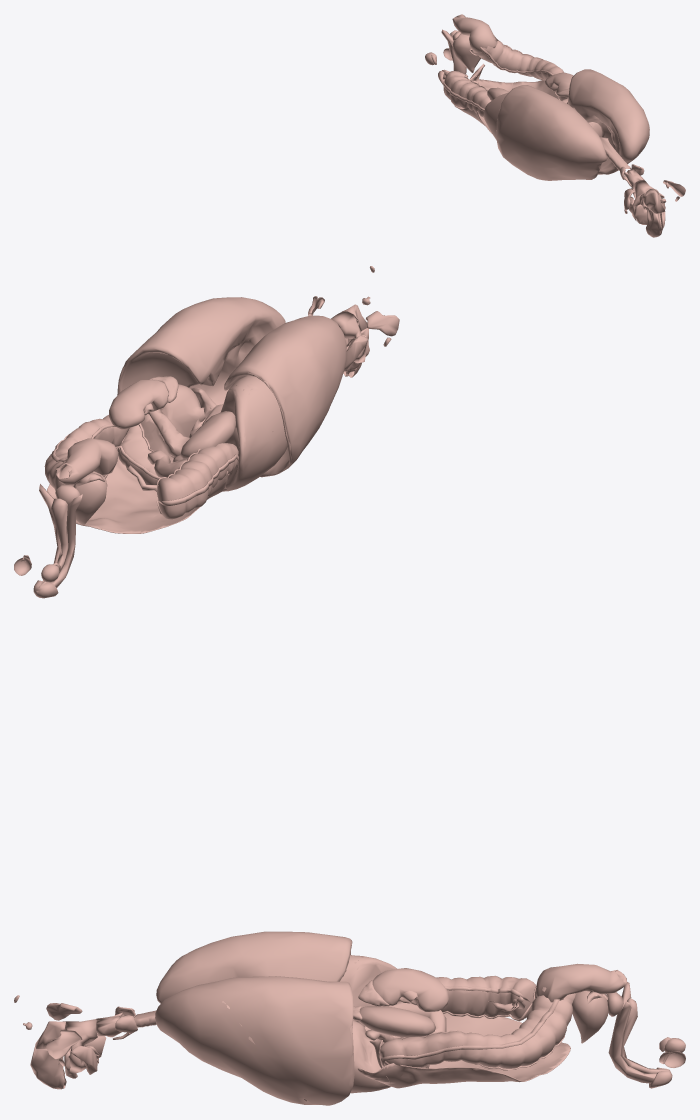
The model's file is overview__organs.e2270969b4.glb.
3 views of the same model, one above another, from view 1: azimuth 30°, elevation 25°; view 2: azimuth 150°, elevation 25°; view 3: azimuth 270°, elevation 25° (orthographic). The views are drawn at different scales.
Parts seen in each view (by area): view 1: Pleura, Descending colon, Ascending colon, Sigmoid colon, Greater omentum, Liver, Urinary bladder, Mucosa of nasal cavity, Kidney.l, Trachea, Oropharynx, Nasopharynx; view 2: Pleura, Liver, Greater omentum, Ascending colon, Kidney.l, Sigmoid colon, Descending colon, Kidney.r, Stomach, Transverse colon, Corpus cavernosum of penis, Urinary bladder (+4 smaller); view 3: Pleura, Descending colon, Greater omentum, Ascending colon, Sigmoid colon, Kidney.r, Kidney.l, Stomach, Urinary bladder, Corpus cavernosum of penis, Liver, Mucosa of nasal cavity (+5 smaller).
Part boxes in pixels (box(x1,y1,x2,y2)): Pleura: box(496, 69, 649, 180); Descending colon: box(470, 37, 566, 100); Ascending colon: box(443, 71, 491, 117); Sigmoid colon: box(452, 14, 498, 53); Greater omentum: box(454, 79, 558, 133); Liver: box(483, 92, 602, 139); Urinary bladder: box(452, 33, 480, 72); Mucosa of nasal cavity: box(645, 206, 665, 237); Kidney.l: box(545, 72, 573, 93); Trachea: box(600, 137, 630, 170); Oropharynx: box(631, 180, 661, 220); Nasopharynx: box(642, 189, 665, 213); Pleura: box(118, 297, 346, 477); Liver: box(190, 375, 287, 491); Greater omentum: box(47, 448, 228, 533); Ascending colon: box(157, 443, 238, 519); Kidney.l: box(109, 379, 168, 429); Sigmoid colon: box(56, 438, 118, 484); Descending colon: box(44, 415, 129, 489); Kidney.r: box(180, 411, 235, 458); Stomach: box(160, 384, 205, 437); Transverse colon: box(117, 425, 229, 484); Corpus cavernosum of penis: box(39, 484, 82, 587); Urinary bladder: box(54, 470, 107, 525); Pleura: box(155, 931, 353, 1105); Descending colon: box(379, 987, 576, 1068); Greater omentum: box(358, 1013, 570, 1088); Ascending colon: box(398, 975, 535, 1019); Sigmoid colon: box(536, 963, 626, 1002); Kidney.r: box(372, 968, 448, 1011); Kidney.l: box(359, 1006, 435, 1037); Stomach: box(350, 1020, 390, 1093); Urinary bladder: box(572, 991, 607, 1043); Corpus cavernosum of penis: box(608, 982, 656, 1083); Liver: box(340, 955, 397, 1026); Mucosa of nasal cavity: box(30, 1045, 66, 1089).
Bounding box in the file's own units: 1051 × 187 × 865.
